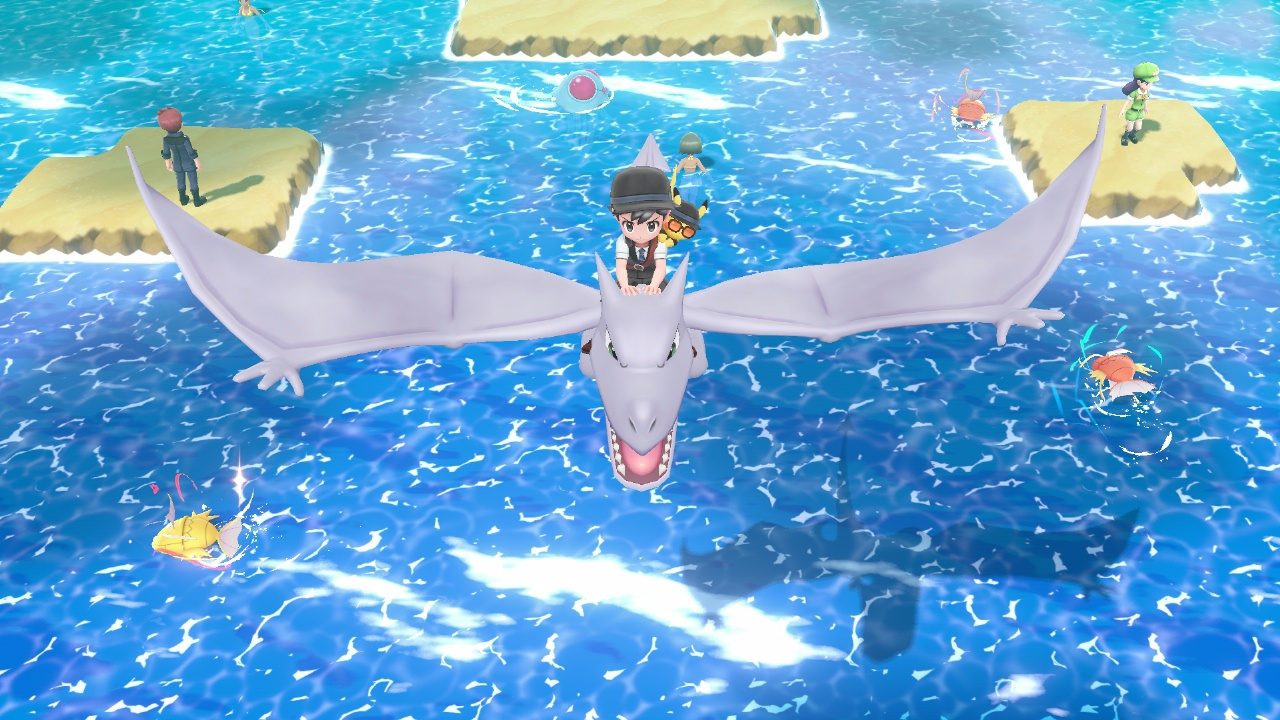Golden: (150, 508, 243, 574)
